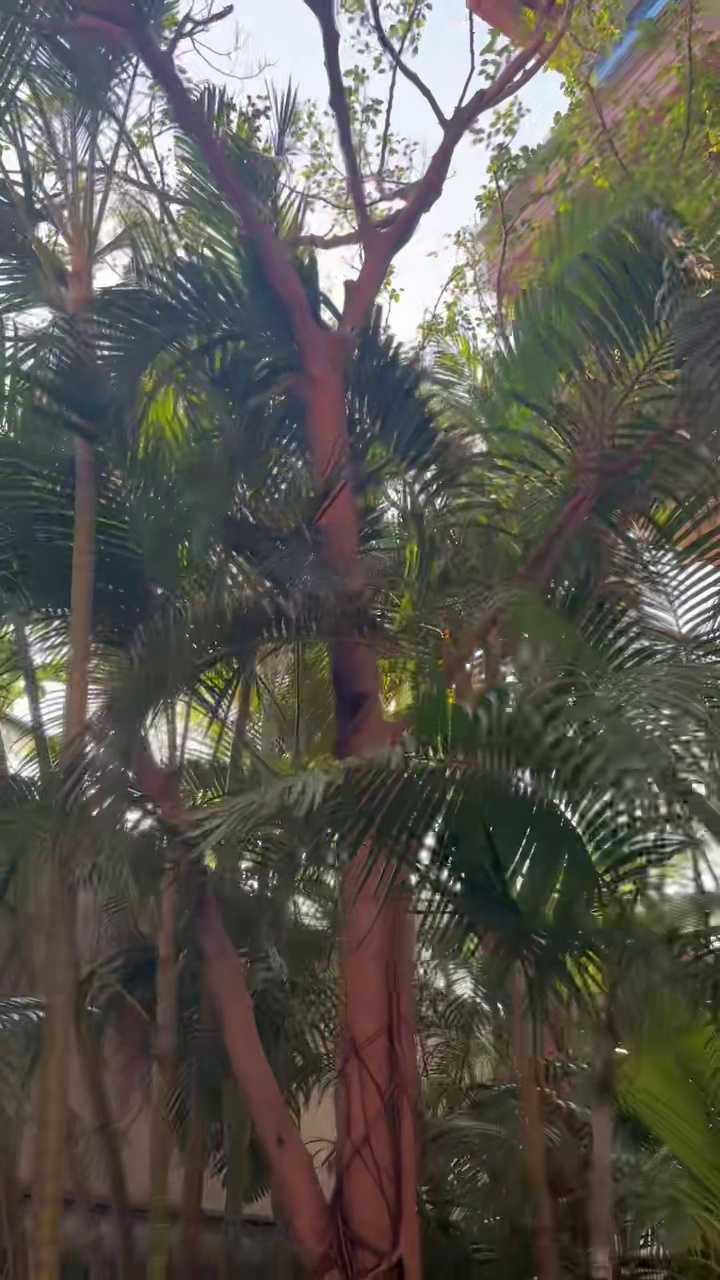Ficus benjamina: (81, 0, 554, 1279)
